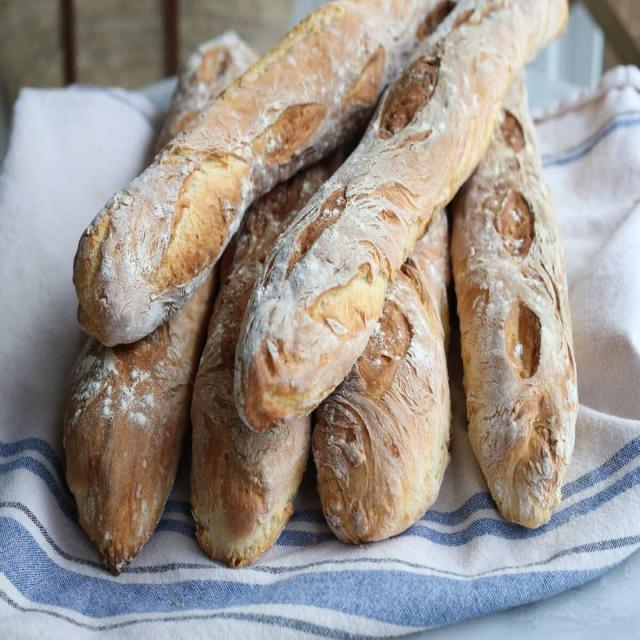Baguette: (234, 0, 563, 429), (74, 0, 432, 346), (191, 141, 355, 566), (451, 78, 578, 528), (312, 209, 451, 542), (64, 269, 215, 570)
